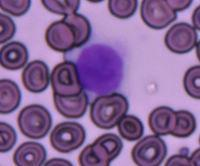L: (75, 39, 132, 96)
